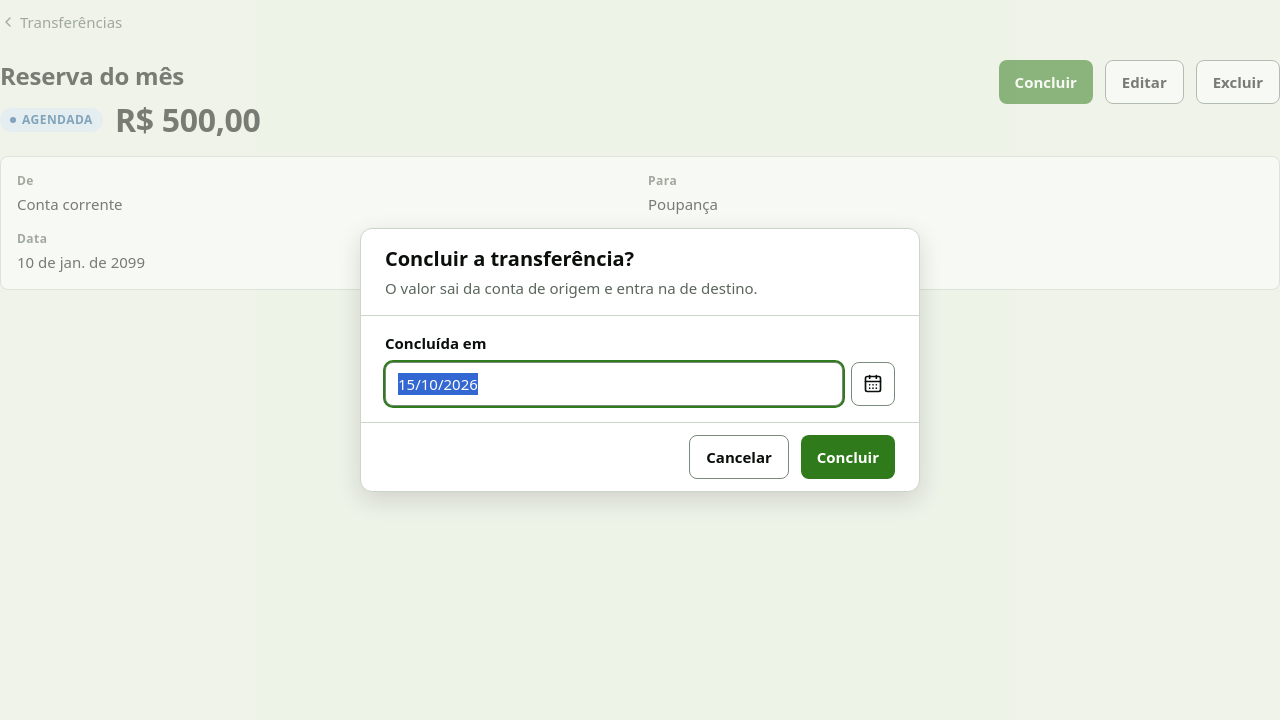
Test case: TransferDetailPage (spec 0018) › shows a status conflict when completing and reloads the transfer
Click the button "Concluir": coordinates (848, 457) x1=801 y1=435 x2=895 y2=479
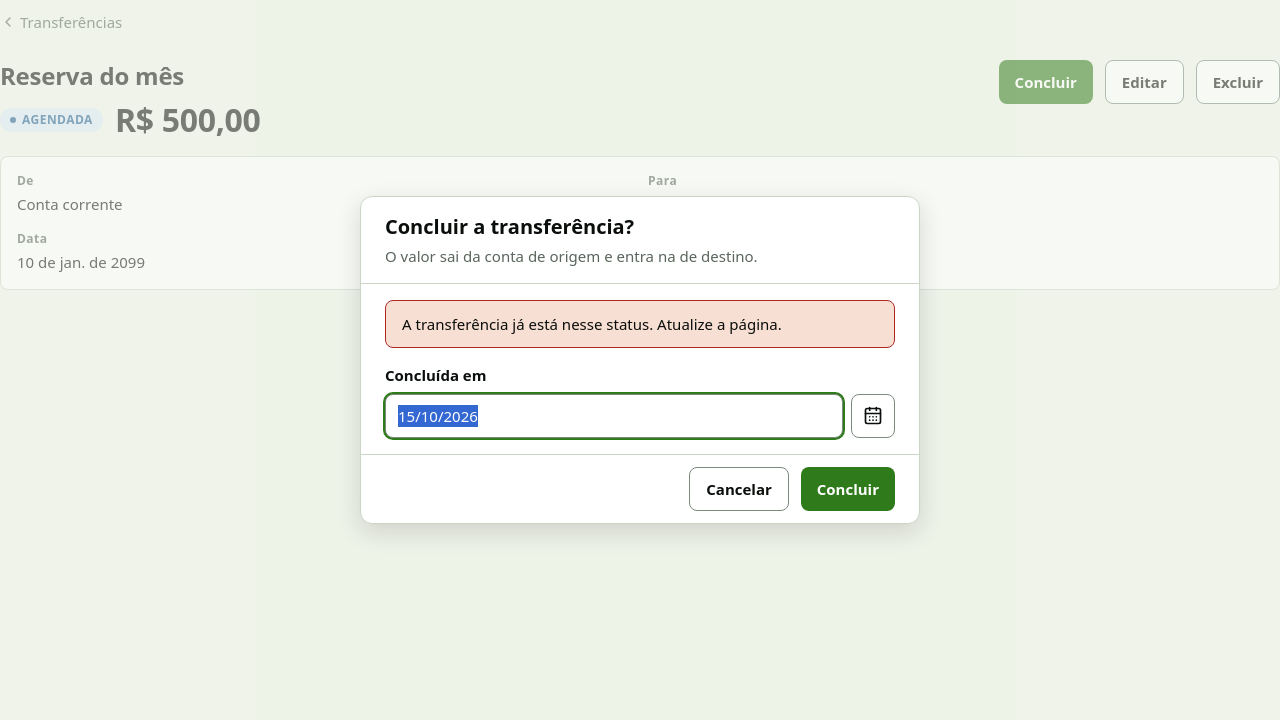
Now the message reads "A transferência já está nesse status. Atualize a página.", box x1=402 y1=314 x2=782 y2=334
